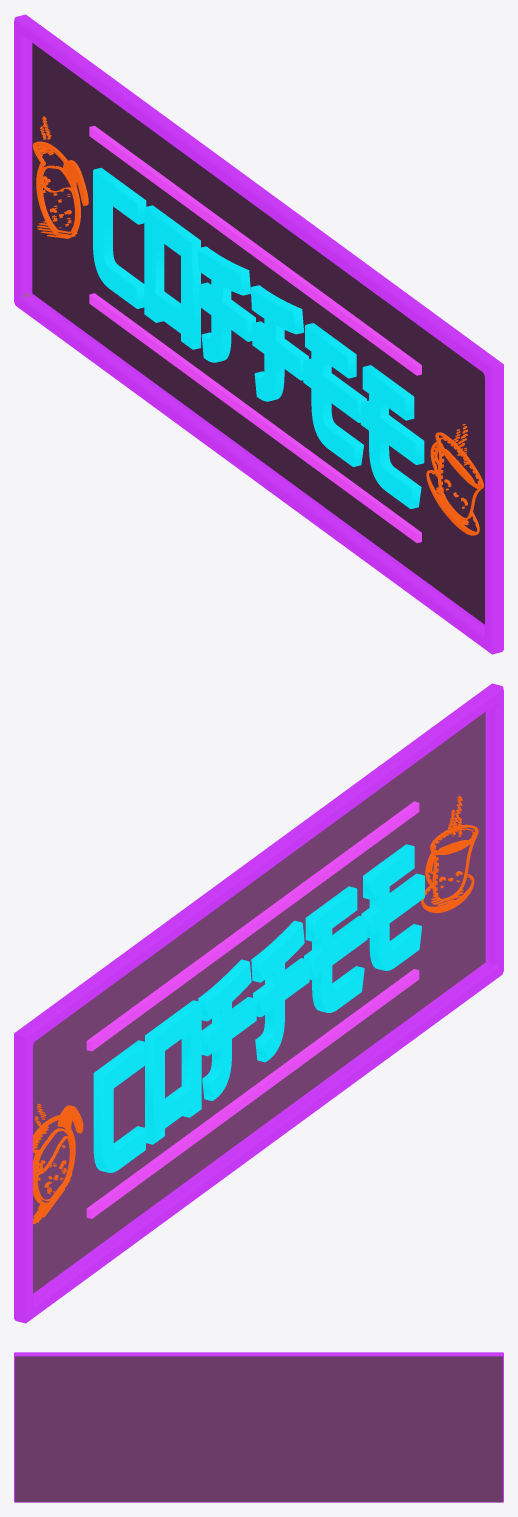
The model's file is coffeesign.gltf.
3 renders of one model, top to bottom at view 1: azimuth 30°, elevation 25°; view 2: azimuth 150°, elevation 25°; view 3: azimuth 270°, elevation 25°, orthographic. The views are drawn at different scales.
Parts seen in each view (by area): view 1: Coffee Sign; view 2: Coffee Sign; view 3: Coffee Sign.
Part boxes in pixels (box(x1,y1,x2,y2)): Coffee Sign: box(14, 14, 503, 654); Coffee Sign: box(14, 683, 503, 1323); Coffee Sign: box(14, 1352, 503, 1502).
Size of what is drawn, in the model's own units: 0.1 by 2 by 6.
